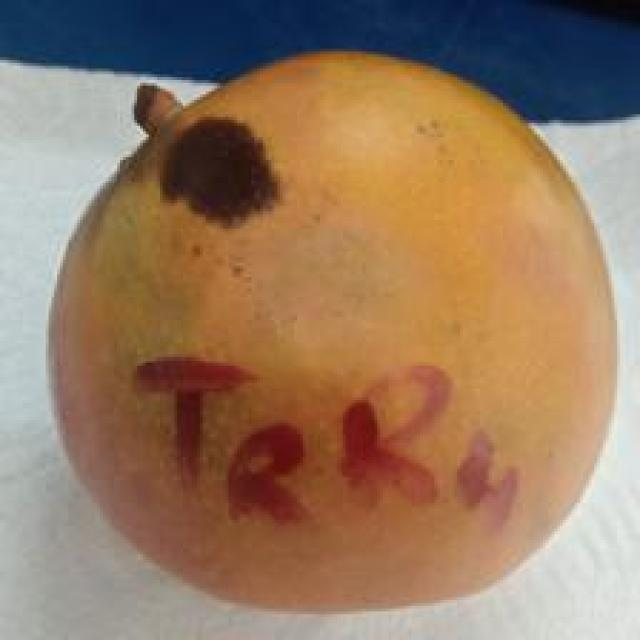Mango: (41, 57, 616, 586)
